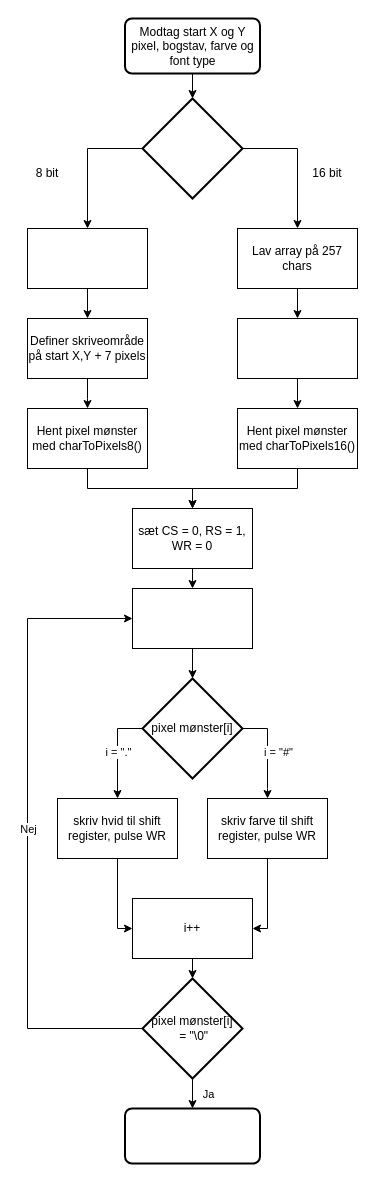
Image size: 375x1181. Some labels were removed from this diagram. Here are the shapes that lost their labels. From the top down, the box of each, then its label:
(141, 97, 243, 199): 8 eller 16 bit font?
(26, 228, 148, 288): Lav array på 65 chars
(236, 318, 358, 378): Definer skriveområde på start X,Y + 15 pixels
(132, 588, 252, 648): while(pixel mønster[i] != "\0")
(124, 1107, 260, 1164): Sæt CS = 1
